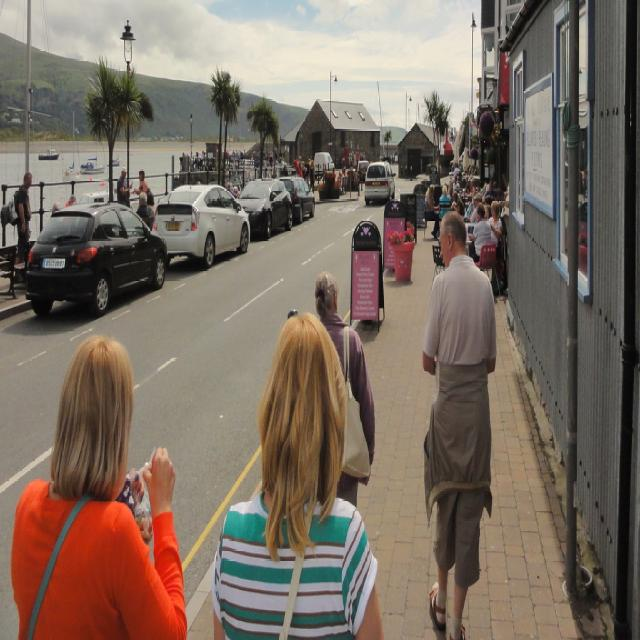car: (26, 202, 166, 316), (151, 171, 250, 259), (232, 171, 294, 241), (276, 171, 316, 222), (364, 159, 394, 199)
